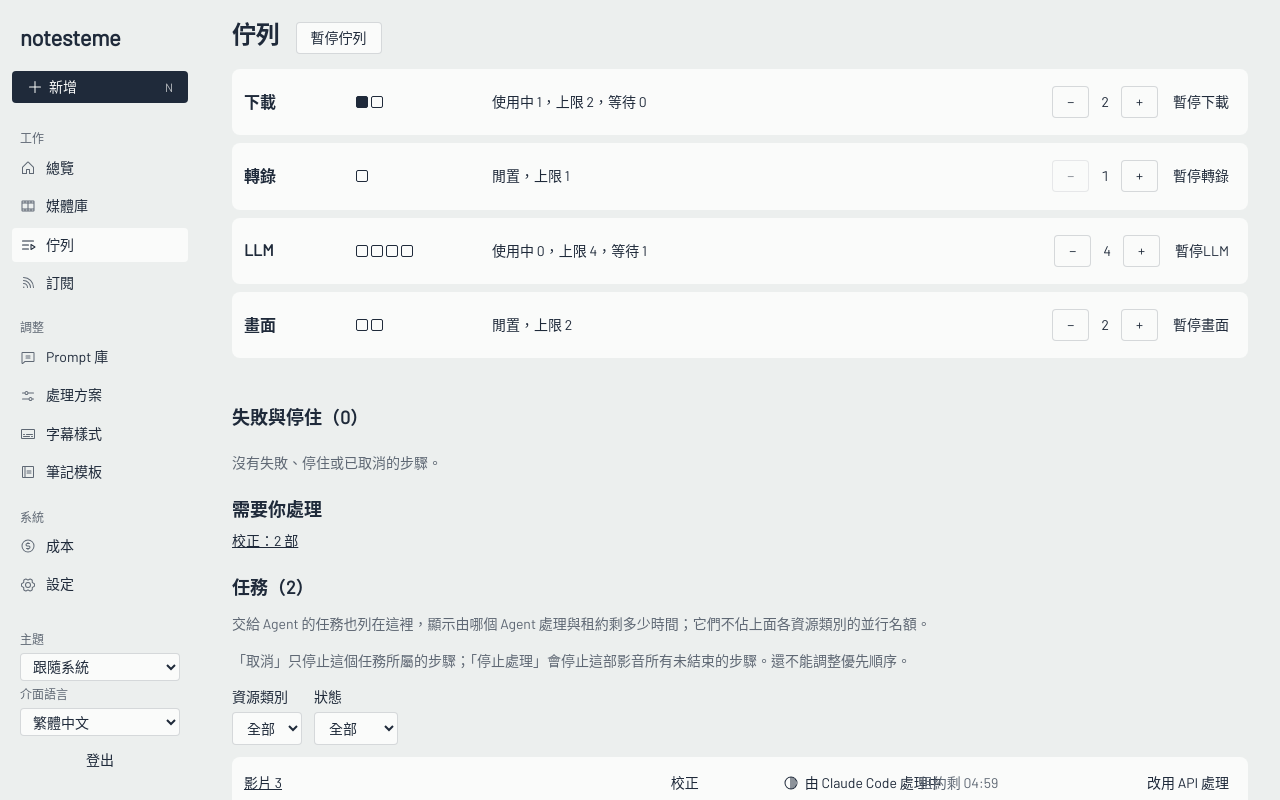
Scenario: 佇列：Agent 任務（AGT A13） › 「改用 API 處理」送 POST /api/tasks/{id}/switch-executor；沒有設定 API 時說明原因
Check: the heading "佇列" is shown, box [232,20,280,49]
Check: the heading "下載" is shown, box [244,92,276,111]
Click the button "改用 API 處理": (1188, 784) [1140,768,1236,799]
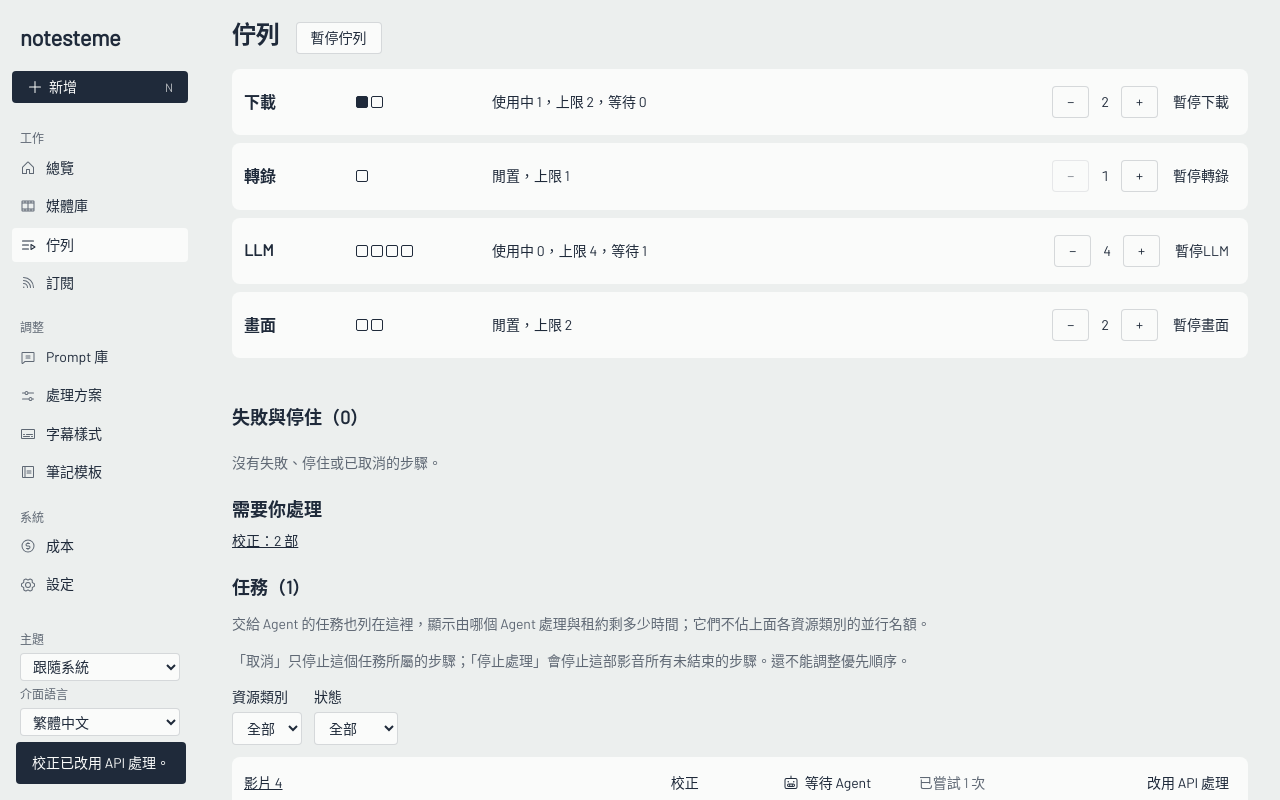
Check: the text "校正已改用 API 處理。" is shown, box [32,752,170,774]
Click the button "改用 API 處理": (1188, 784) [1140,768,1236,799]
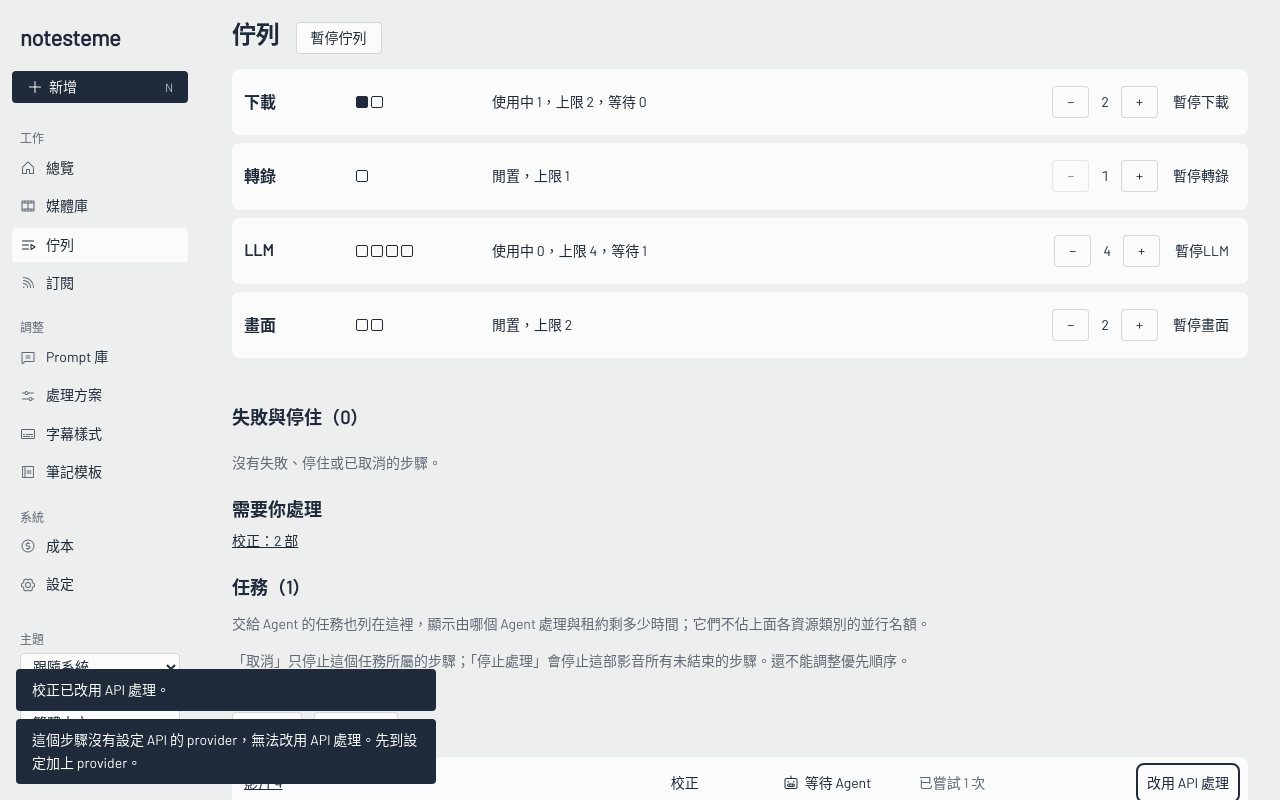
Check: the text "這個步驟沒有設定 API 的 provider，無法改用 API 處理。先到設定加上 provider。" is shown, box [32,729,420,774]
